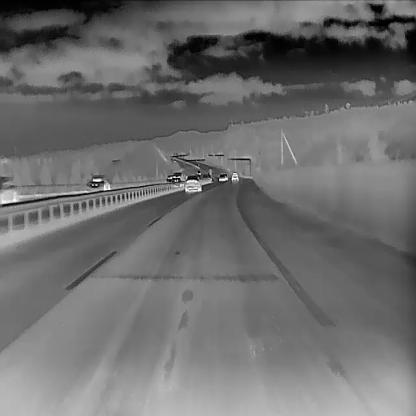car: (85, 172, 111, 194), (0, 173, 17, 204), (183, 175, 202, 193), (171, 171, 184, 188), (165, 174, 175, 184), (230, 172, 239, 181), (217, 173, 226, 180)
